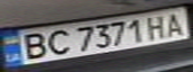1: (124, 16, 148, 43)
3: (93, 20, 115, 50)
7: (69, 24, 97, 52), (109, 18, 130, 46)
A: (160, 10, 190, 37)
B: (15, 30, 51, 61)
C: (42, 27, 72, 56)
H: (142, 12, 172, 39)
